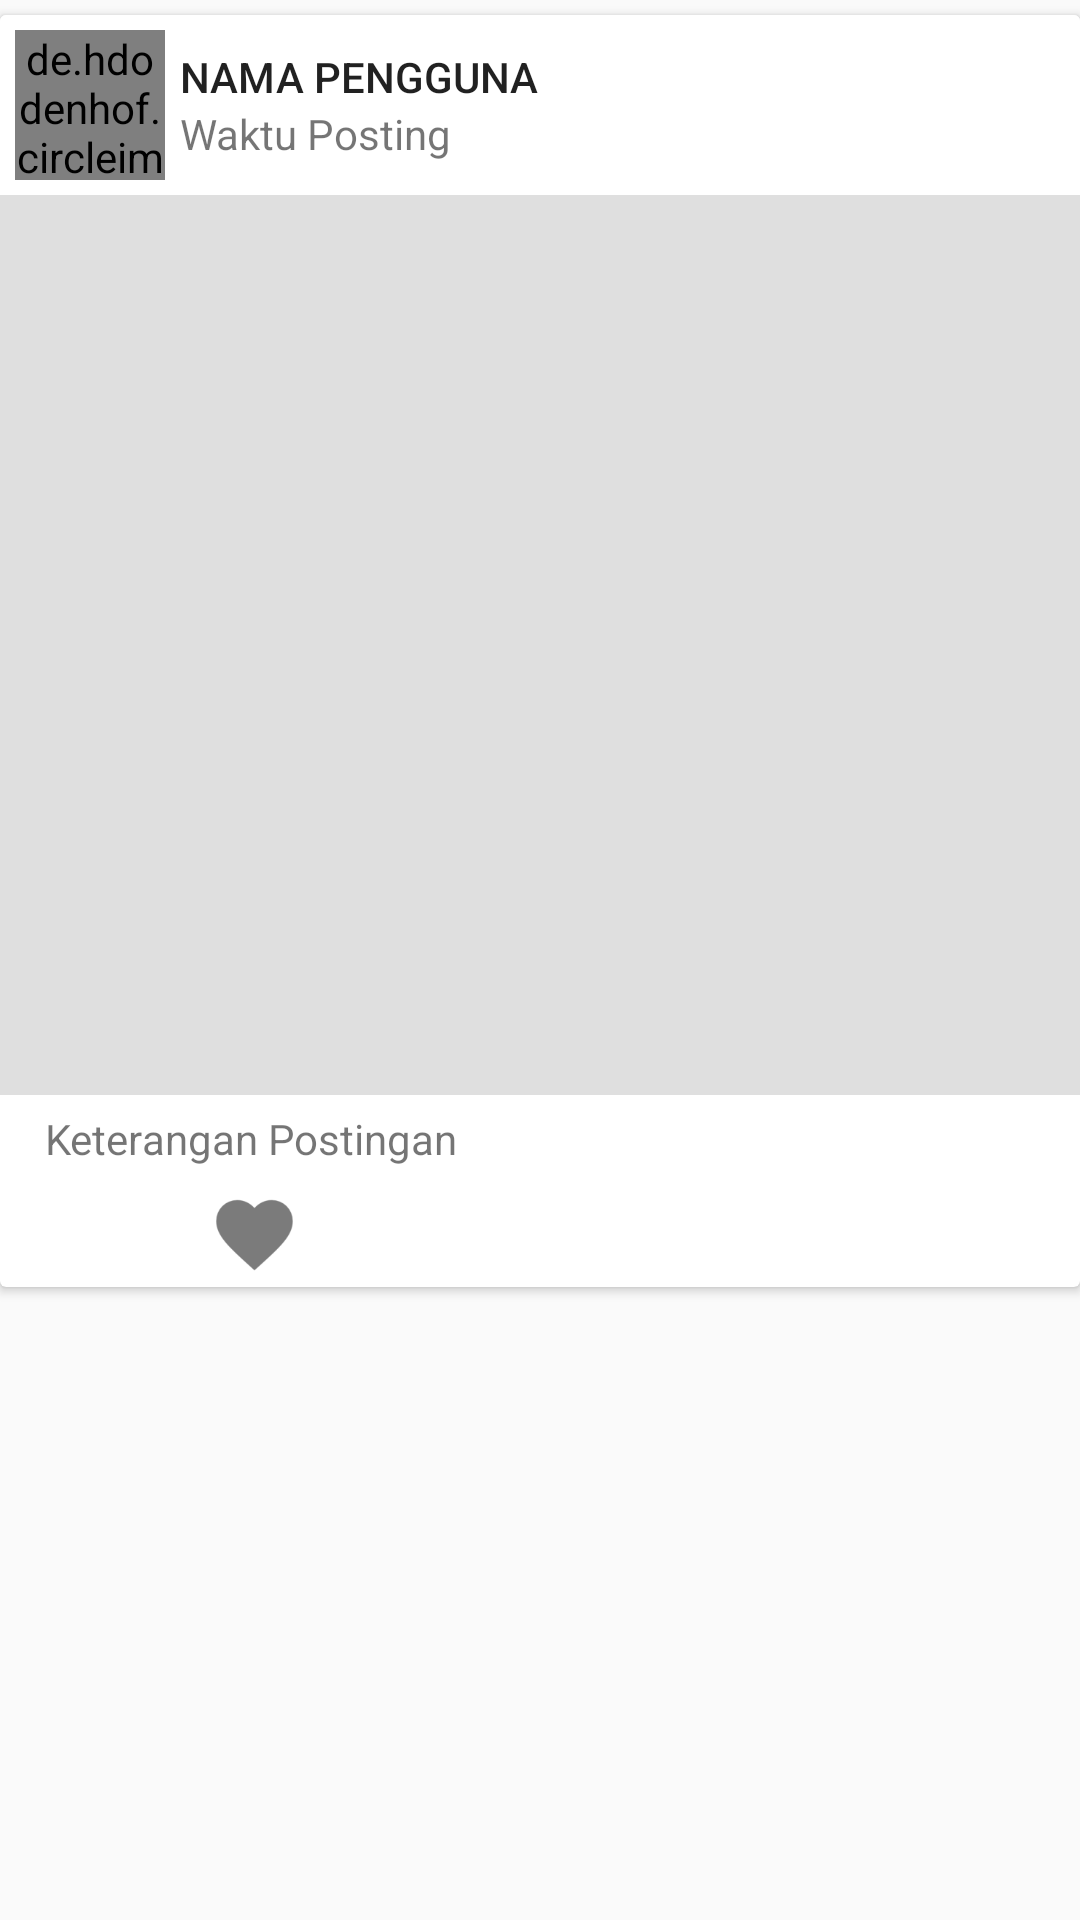

Icon bounding boxes for this 1080*1920 phone screenshot, format [left=x1, top=y1, right=x2, bottom=y2]:
like: [left=216, top=1200, right=293, bottom=1270]
